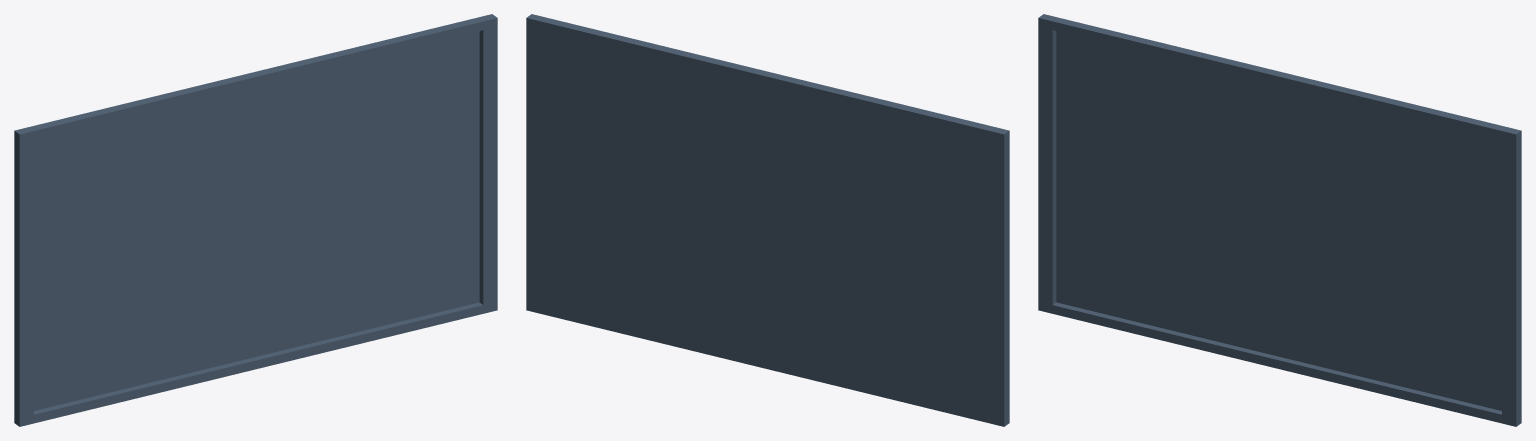
Rendered from Mirror Low.fbx.
3 renders of one model, left to right at view 1: azimuth 30°, elevation 25°; view 2: azimuth 150°, elevation 25°; view 3: azimuth 330°, elevation 25°, orthographic.
Visible parts, largest first — view 1: Mirror_01_low; view 2: Mirror_01_low; view 3: Mirror_01_low.
Boxes of the visible parts, x1=… form: Mirror_01_low: x1=14, y1=14, x2=497, y2=426; Mirror_01_low: x1=526, y1=14, x2=1009, y2=426; Mirror_01_low: x1=1038, y1=14, x2=1521, y2=426.
Size of the model in its own units: 171 by 100 by 3.32.
